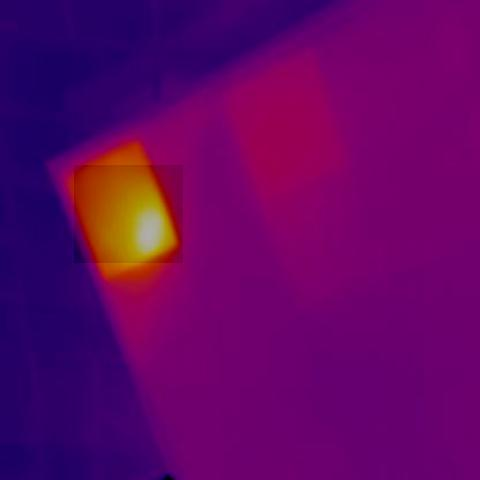fault: (74, 165, 183, 263)
